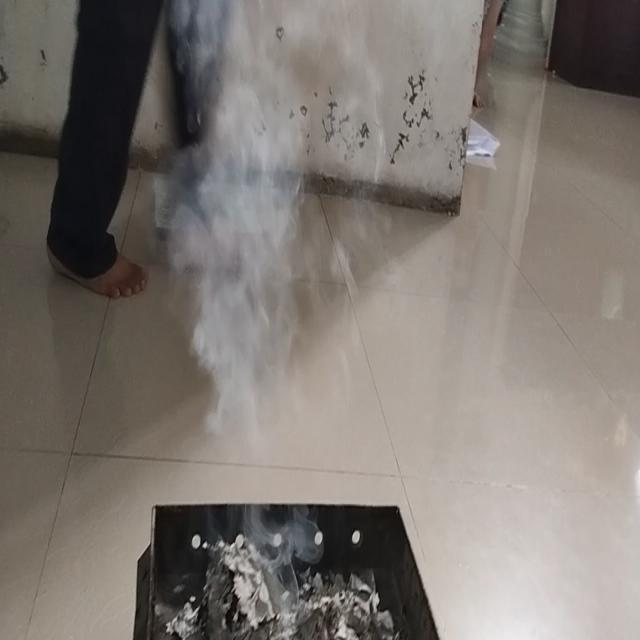smoke: (182, 20, 302, 431)
